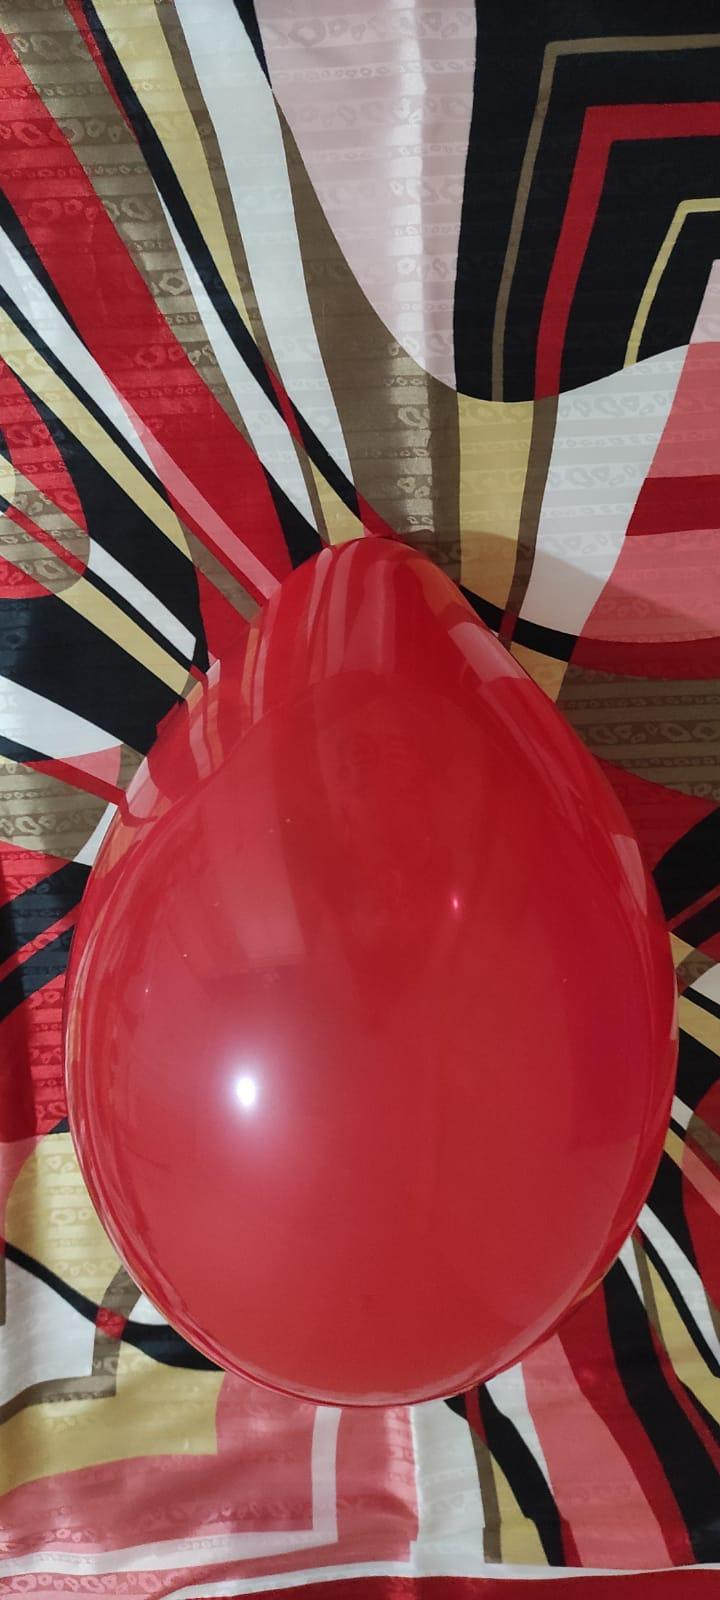red: (67, 514, 670, 1415)
